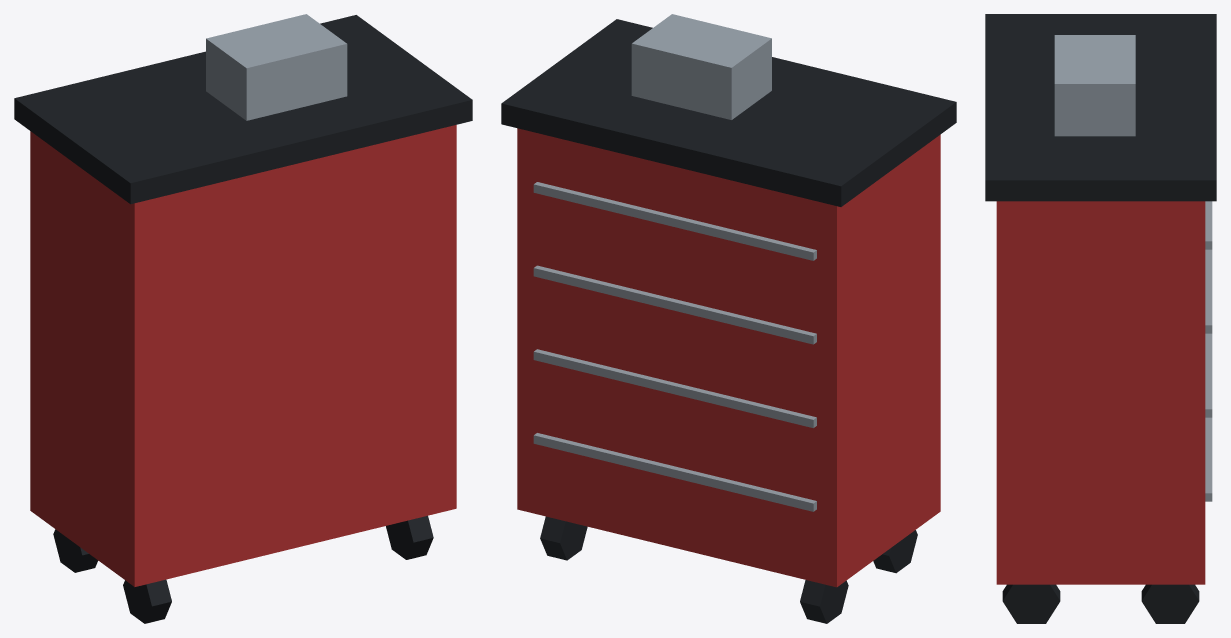
File: prop_carrier_toolchest.fbx
The picture shows the model from 3 angles, left to right: view 1: azimuth 30°, elevation 25°; view 2: azimuth 150°, elevation 25°; view 3: azimuth 270°, elevation 25°; orthographic projection.
Visible parts, largest first — view 1: prop_carrier_toolchest; view 2: prop_carrier_toolchest; view 3: prop_carrier_toolchest.
Part boxes in pixels (x1,y1,x2,y2): prop_carrier_toolchest: (14, 14, 472, 623); prop_carrier_toolchest: (501, 14, 956, 623); prop_carrier_toolchest: (985, 14, 1216, 623).
Bounding box in the file's own units: 340 × 487 × 200.
